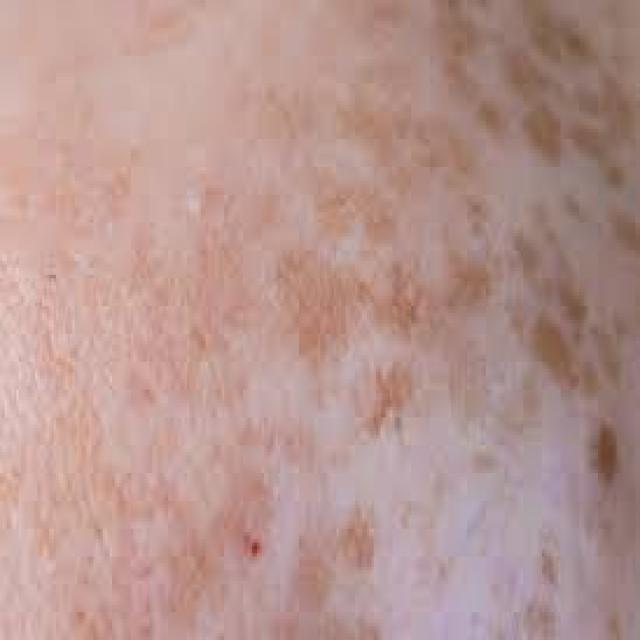pigmentation: (347, 222, 621, 474)
